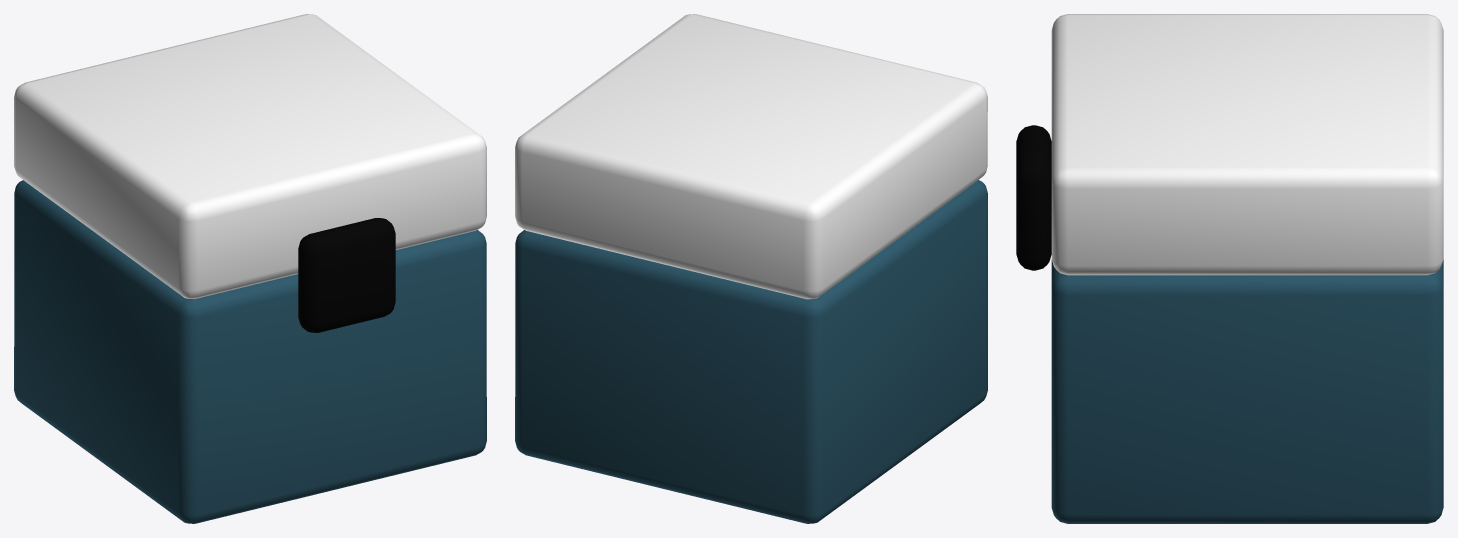
File: truhe.fbx
3 views of the same model, side by side, from view 1: azimuth 30°, elevation 25°; view 2: azimuth 150°, elevation 25°; view 3: azimuth 270°, elevation 25° (orthographic). The views are drawn at different scales.
Visible parts, largest first — view 1: truhe_boden, truhe_deckel; view 2: truhe_boden, truhe_deckel; view 3: truhe_deckel, truhe_boden.
Part boxes in pixels (x1,y1,x2,y2): truhe_boden: (14, 180, 486, 523); truhe_deckel: (14, 14, 486, 332); truhe_boden: (515, 180, 987, 523); truhe_deckel: (515, 14, 987, 299); truhe_deckel: (1016, 14, 1443, 275); truhe_boden: (1051, 259, 1443, 523).
Size of the model in its own units: 120 by 120 by 131.
